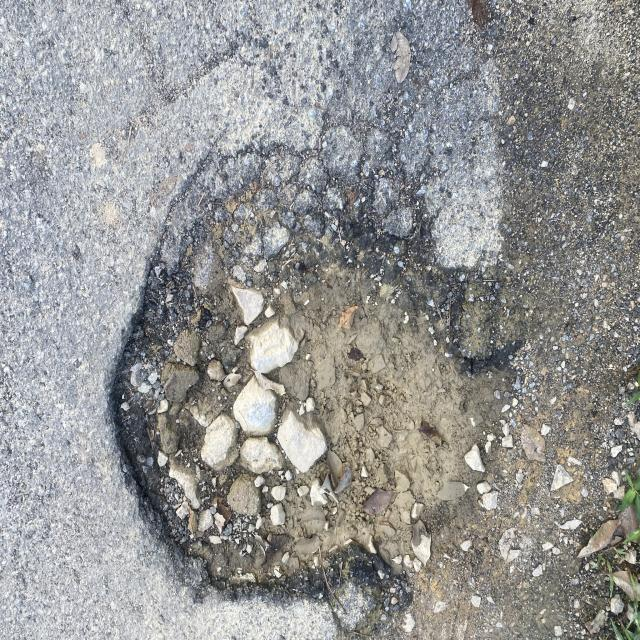Pothole: (75, 136, 514, 640)
